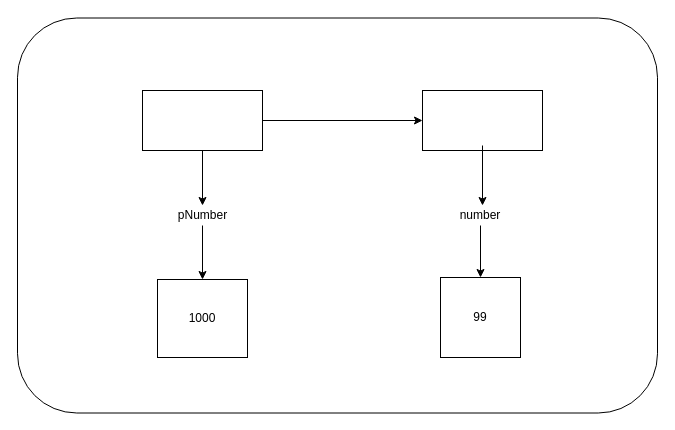
Image size: 675x430. Some labels were removed from this diagram. The box of each missing label's shape, as (x1, y1, x2, y2) in pixels:
&number: (142, 90, 262, 150)
Address: 1000: (422, 90, 542, 150)
